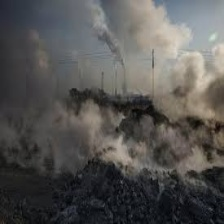smoke: (9, 1, 220, 162)
